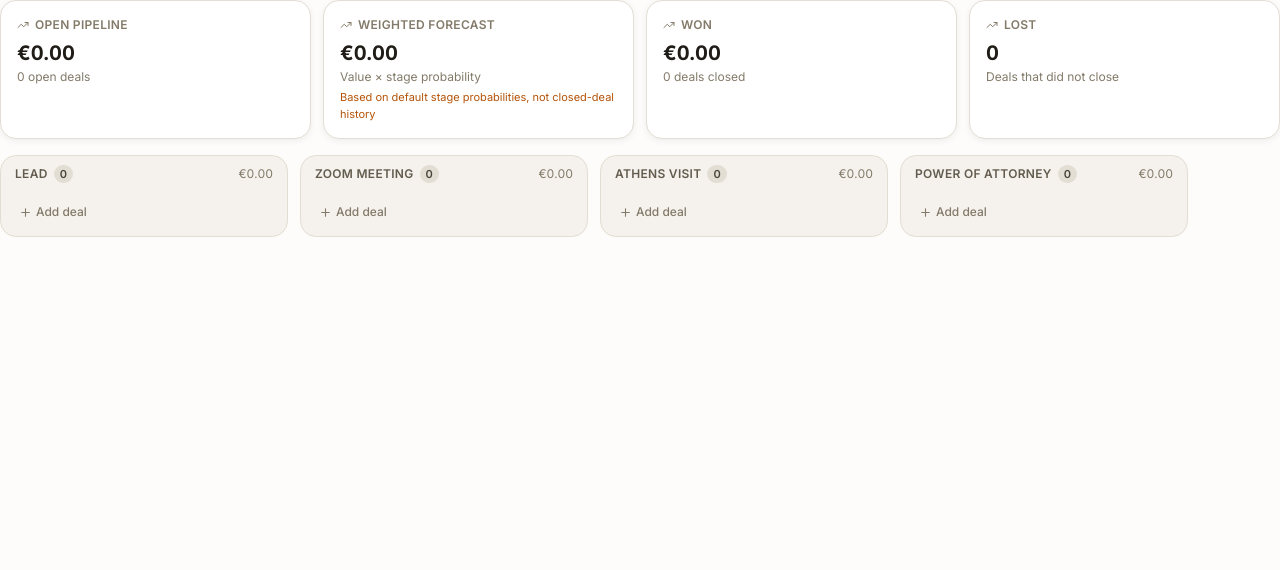
Test: adding a deal › surfaces a rejected creation inline
This screenshot has width=1280, height=570.
Click the button "Add deal" below "Lead" at (61, 212), box [11,198,277,226]
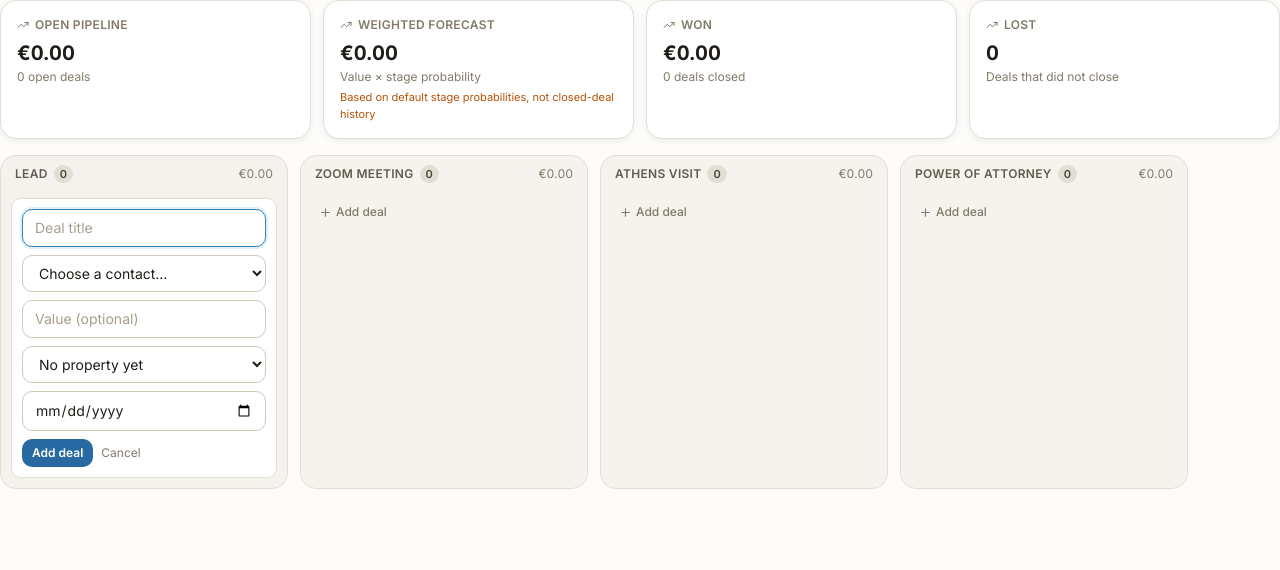
Type "x" into the field labelled "Deal title" at (144, 228), box [22,209,266,247]
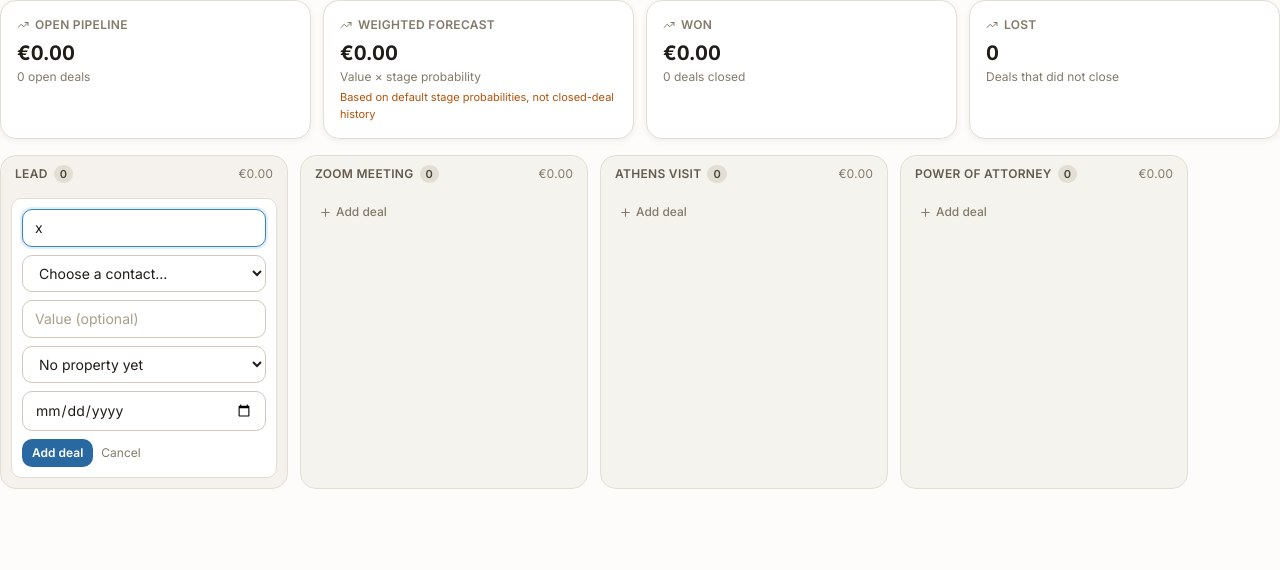
Select "Maria Papadopoulos" in the dropdown named "Contact" at (144, 274), box [22,255,266,292]
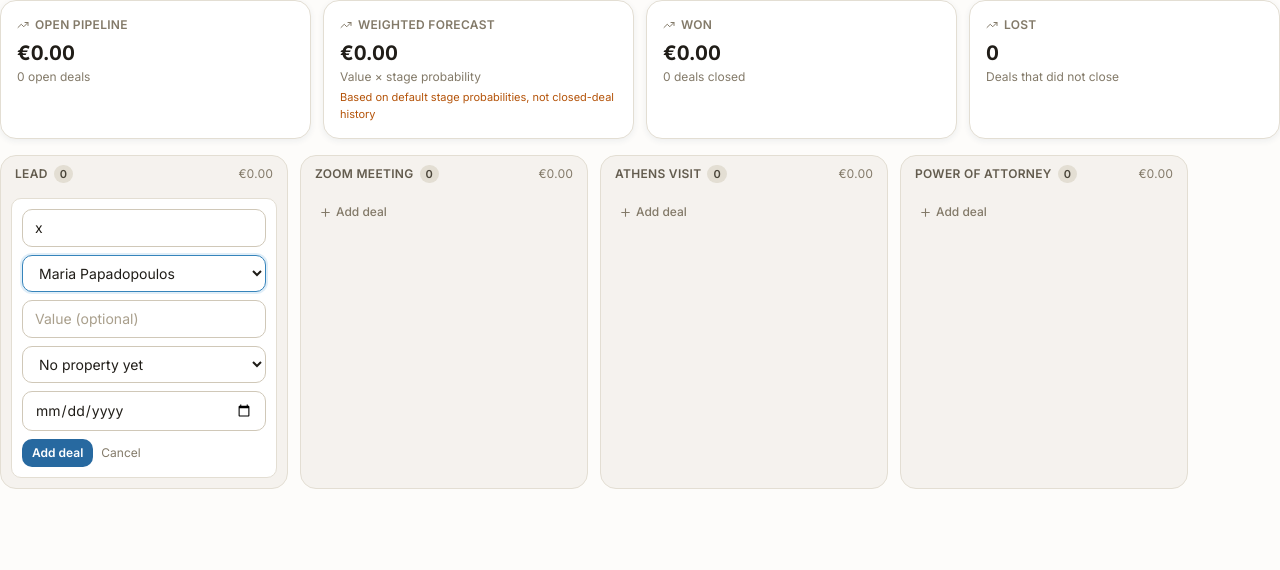
Click the button "Add deal" below "Lead" at (58, 453), box [22,439,93,467]
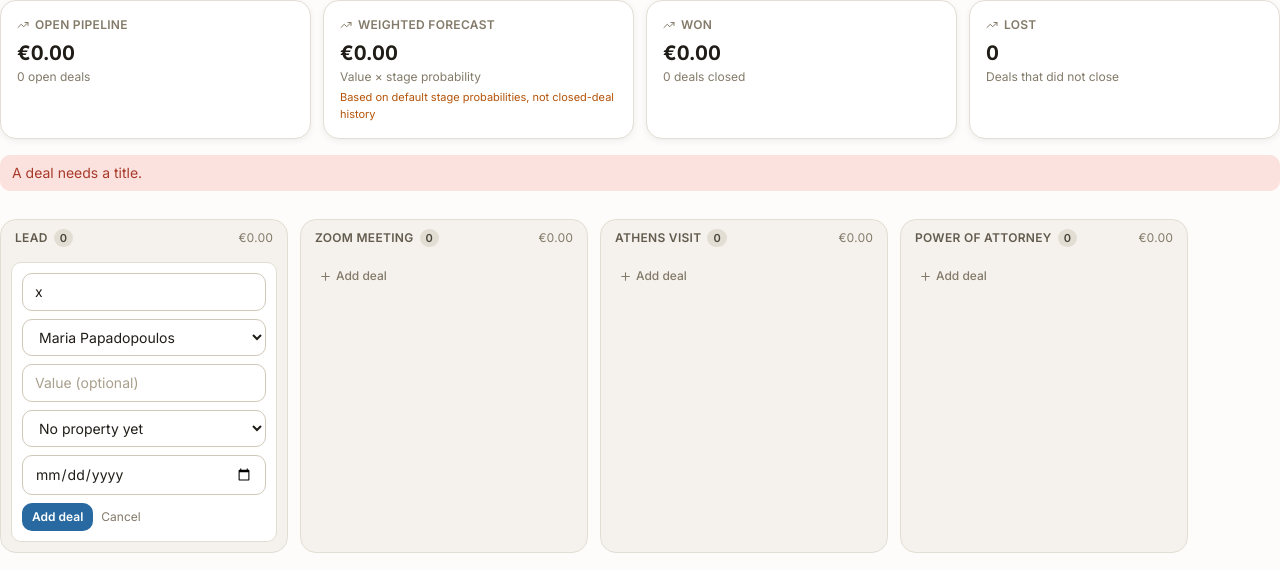
Expected: the message shows "needs a title", [12,164,142,181]
